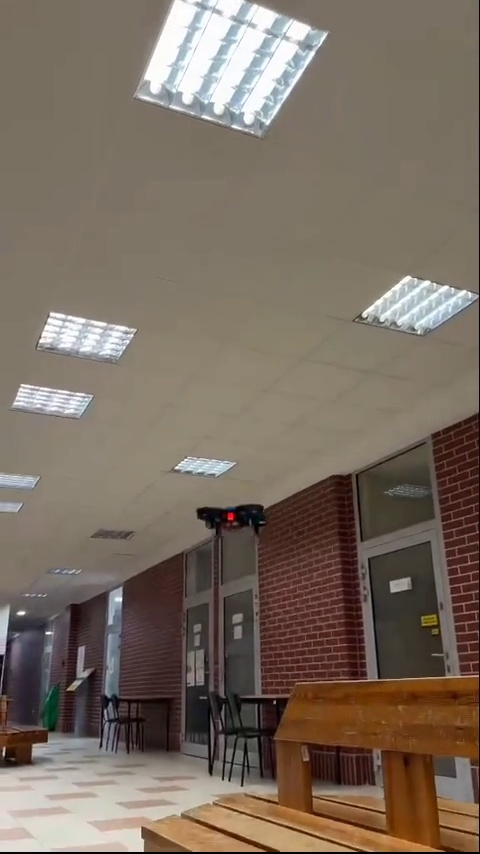drone: (195, 499, 271, 535)
